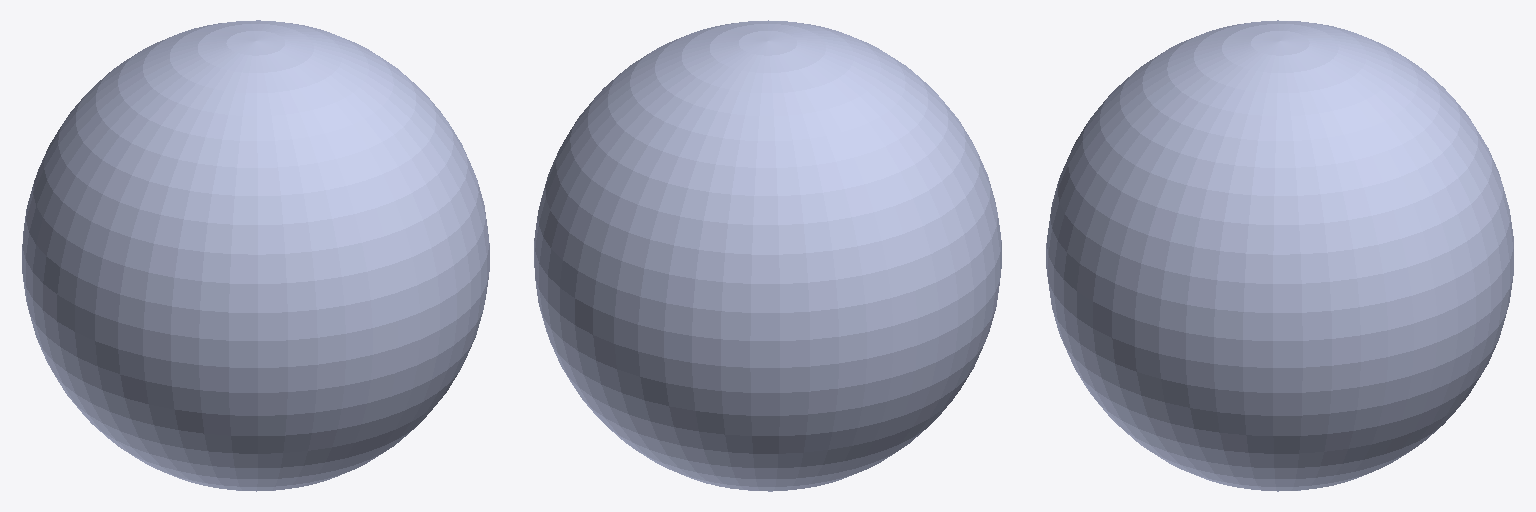
The robot description file, URDF, robot "ball":
<?xml version="1.0" encoding="utf-8"?>
<!-- This URDF was automatically created by SolidWorks to URDF Exporter! Originally created by [author] ([email redacted]) 
     Commit Version: 1.6.0-4-g7f85cfe  Build Version: 1.6.7995.38578
     For more information, please see http://wiki.ros.org/sw_urdf_exporter -->
<robot
  name="ball">
  <link
    name="base_link">
    <inertial>
      <origin
        xyz="0 0 0"
        rpy="0 0 0" />
      <mass
        value="0.509121577756999" />
      <inertia
        ixx="0.000501181397017301"
        ixy="0"
        ixz="-4.00606757309757E-37"
        iyy="0.000496770185495247"
        iyz="0"
        izz="0.000501181397017301" />
    </inertial>
    <visual>
      <origin
        xyz="0 0 0"
        rpy="0 0 0" />
      <geometry>
        <mesh
          filename="package://urdf/ball.STL" />
      </geometry>
      <material
        name="">
        <color
          rgba="0.792156862745098 0.819607843137255 0.933333333333333 1" />
      </material>
    </visual>
    <collision>
      <origin
        xyz="0 0 0"
        rpy="0 0 0" />
      <geometry>
        <mesh
          filename="package://ball/meshes/base_link.STL" />
      </geometry>
    </collision>
  </link>
</robot>

--- What the picture shows (computed from the rendered views, not written in the file) ---
Views: 3 orthographic renders of the robot side by side, from view 1: azimuth 30°, elevation 25°; view 2: azimuth 150°, elevation 25°; view 3: azimuth 270°, elevation 25°.
Model ball with 1 links and 0 joints (none), rooted at base_link, posed every joint at zero.
Visible links, largest first — view 1: base_link; view 2: base_link; view 3: base_link.
Link boxes in pixels (box(x1,y1,x2,y2)): base_link: box(22, 20, 489, 491); base_link: box(534, 20, 1001, 491); base_link: box(1046, 20, 1513, 491).
Bounding box of the posed robot: 0.0986 × 0.0985 × 0.1 m (x, y, z).
1 mesh visuals loaded from 1 distinct referenced files (1 binary STL).